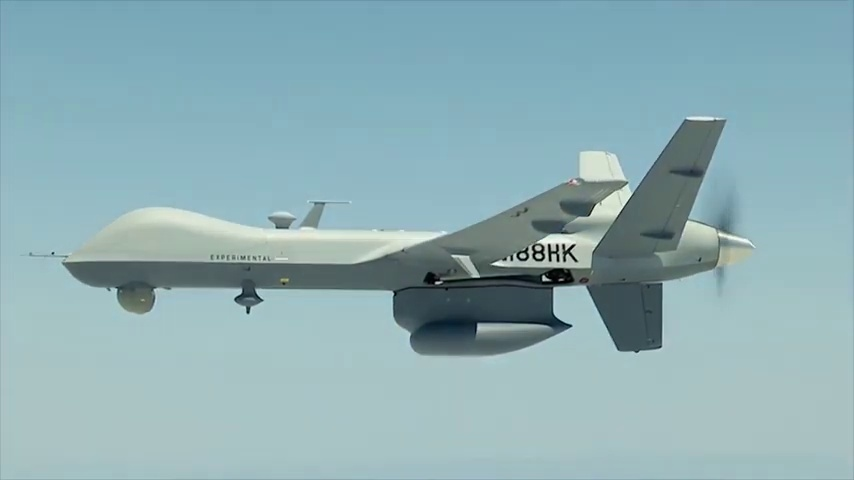military drone: (19, 116, 755, 357)
